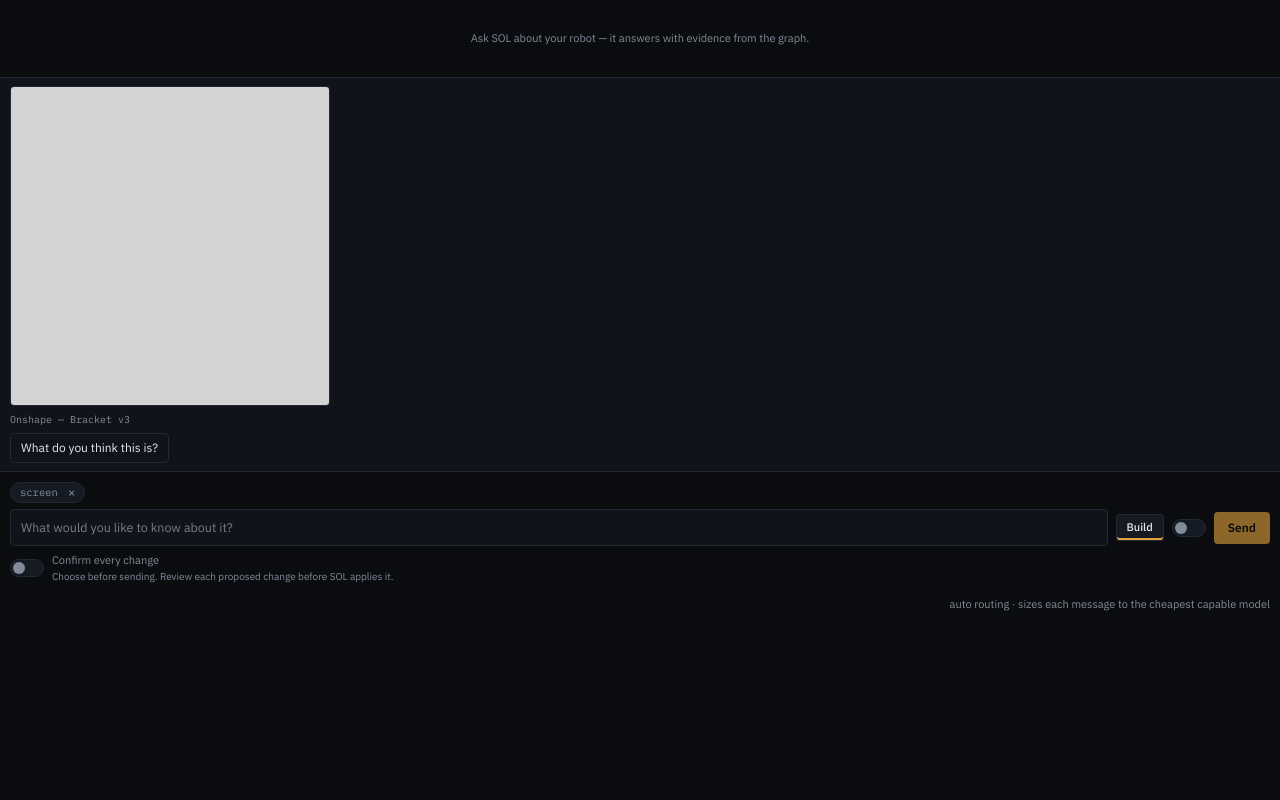
SolChat region card › "What do you think this is?" sends that turn with the screenshot and clears the region
Step 1. Click the button "What do you think this is?" → [90, 448], box [10,432,169,462]
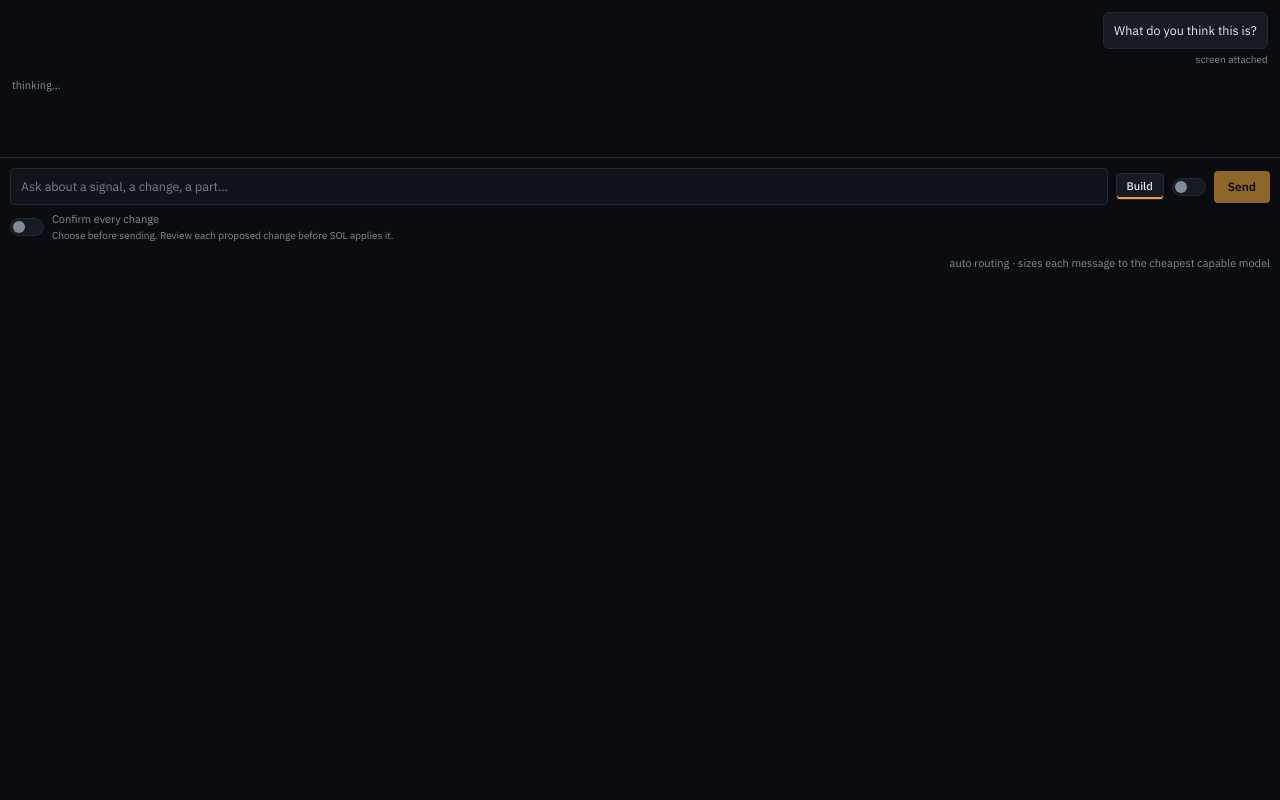
Expected: the text "screen attached" is shown, [1196,53,1268,66]
